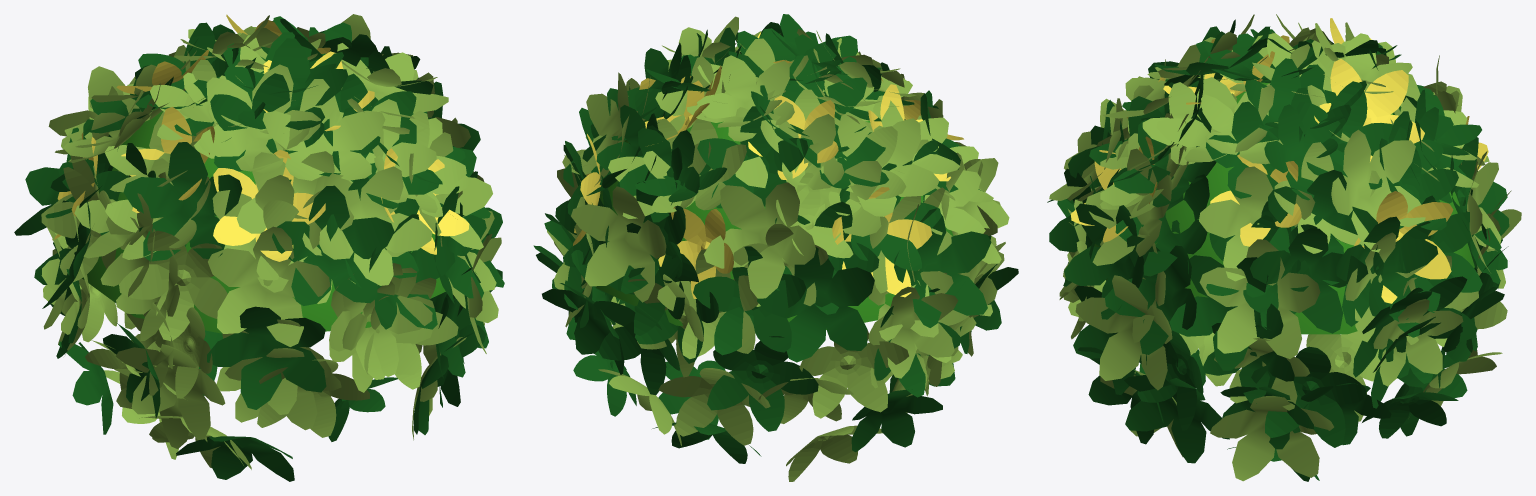
Rendered from buisson.fbx.
3 views of the same model, side by side, from view 1: azimuth 30°, elevation 25°; view 2: azimuth 150°, elevation 25°; view 3: azimuth 270°, elevation 25° (orthographic). The views are drawn at different scales.
Parts seen in each view (by area): view 1: Flower.033; view 2: Flower.033; view 3: Flower.033.
Boxes of the visible parts, <box> form: Flower.033: <box>14,14,504,481</box>; Flower.033: <box>533,14,1018,481</box>; Flower.033: <box>1047,14,1521,481</box>.
Bounding box in the file's own units: 2.51 × 2.32 × 2.38.
